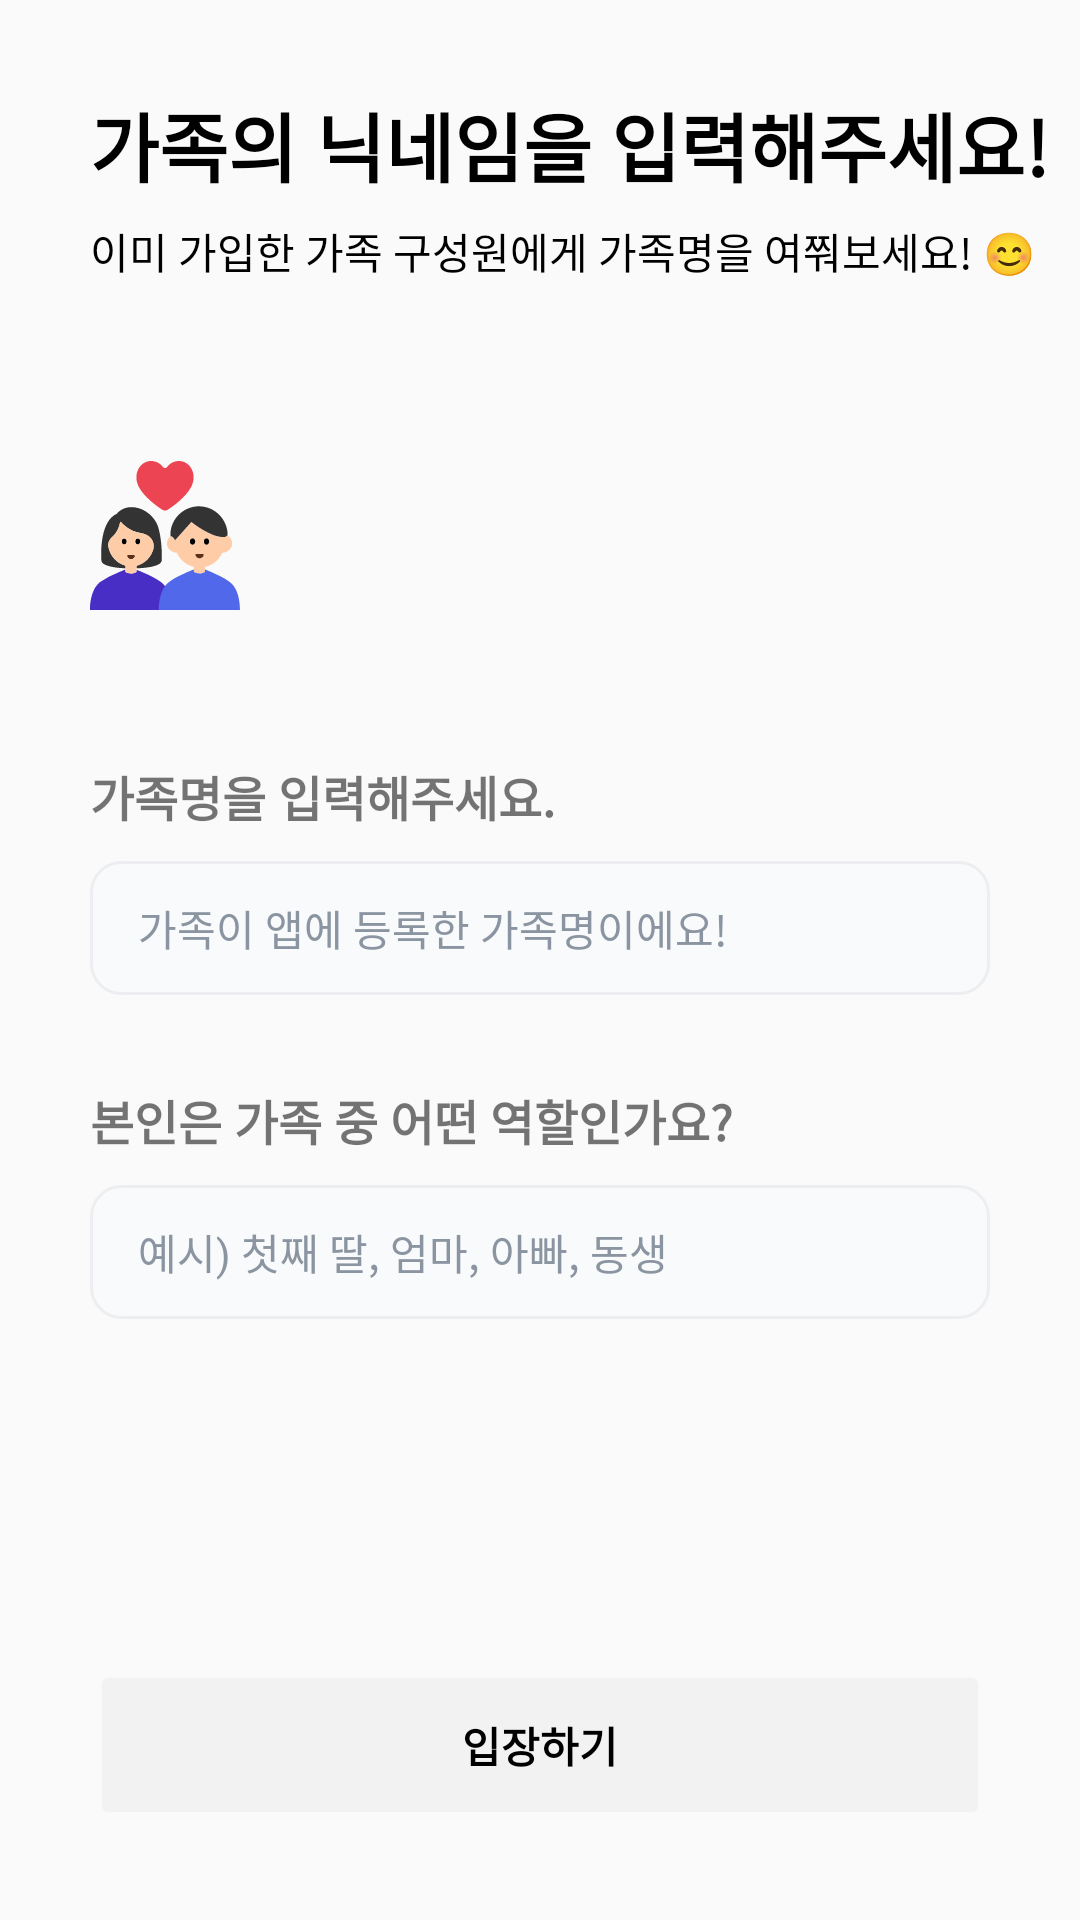

Point at icon controls on the screen. Image size 1080*1920, points as (x,y).
family: (165,535)
